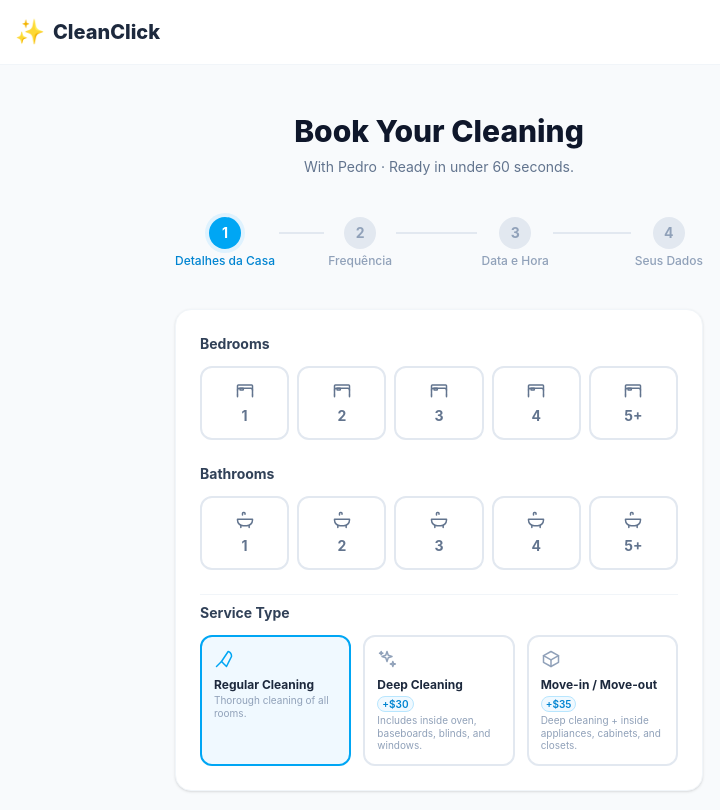
Scenario: Step 1 — Frequency (Stitch similarity) › botão Back retorna ao Step 0 (House Details)
Click the button "2" below "Bedrooms": coordinates (342, 403) 297,366 -> 386,440
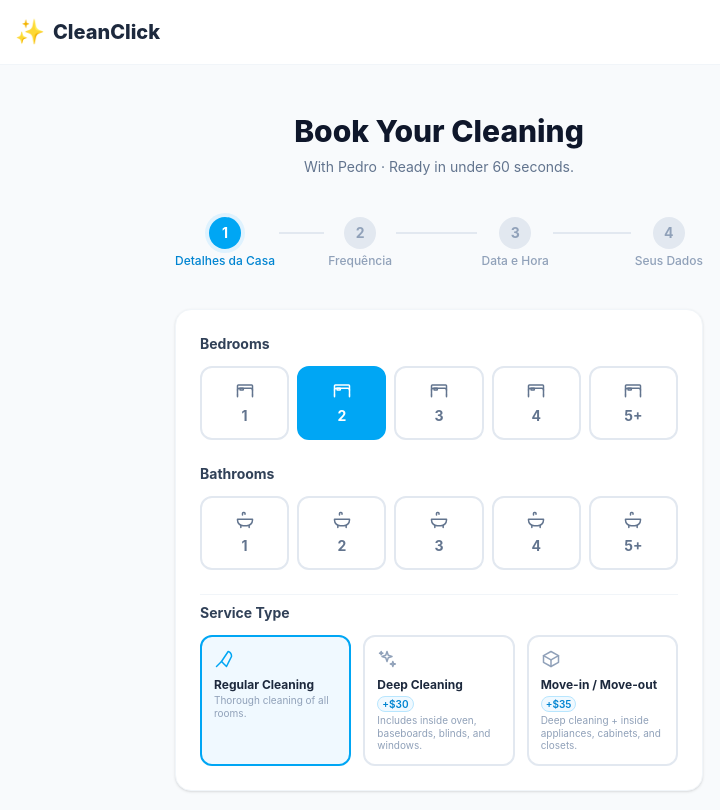
Click the button "2" below "Bathrooms": coordinates (342, 533) 297,496 -> 386,570
(page scrolled)
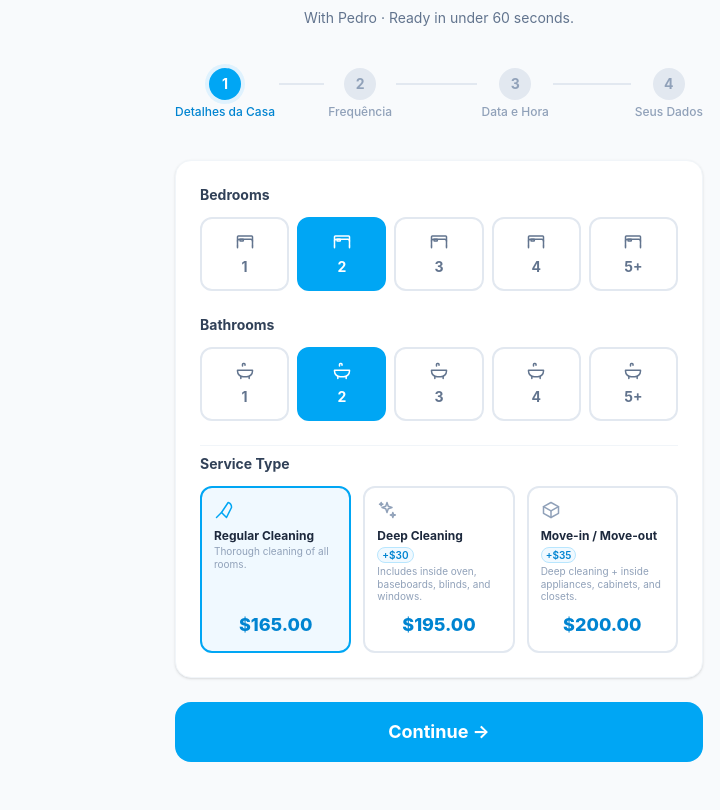
Click the button "Continue →": coordinates (439, 732) 175,702 -> 703,762
(page scrolled)
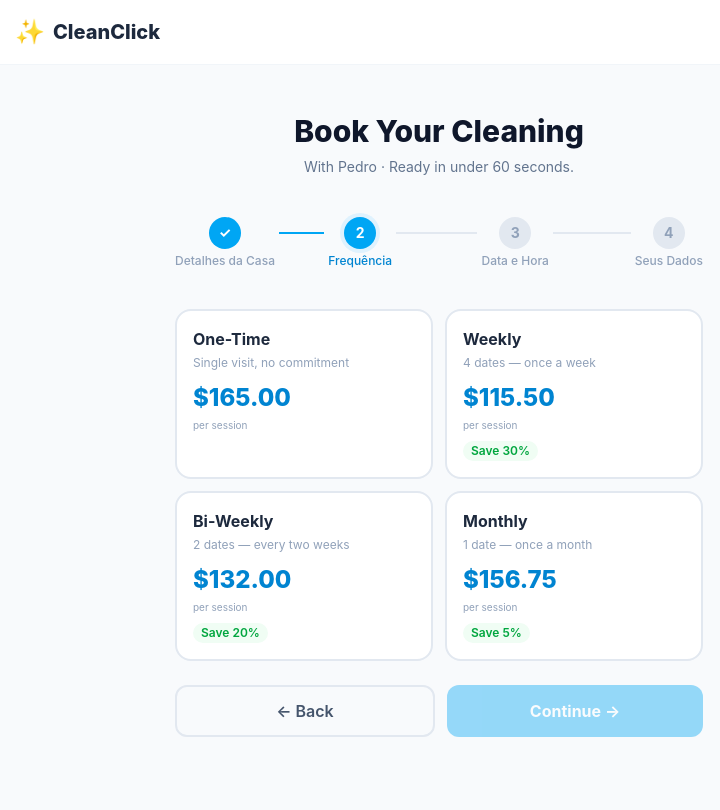
Click the button "← Back": coordinates (305, 711) 175,685 -> 435,737
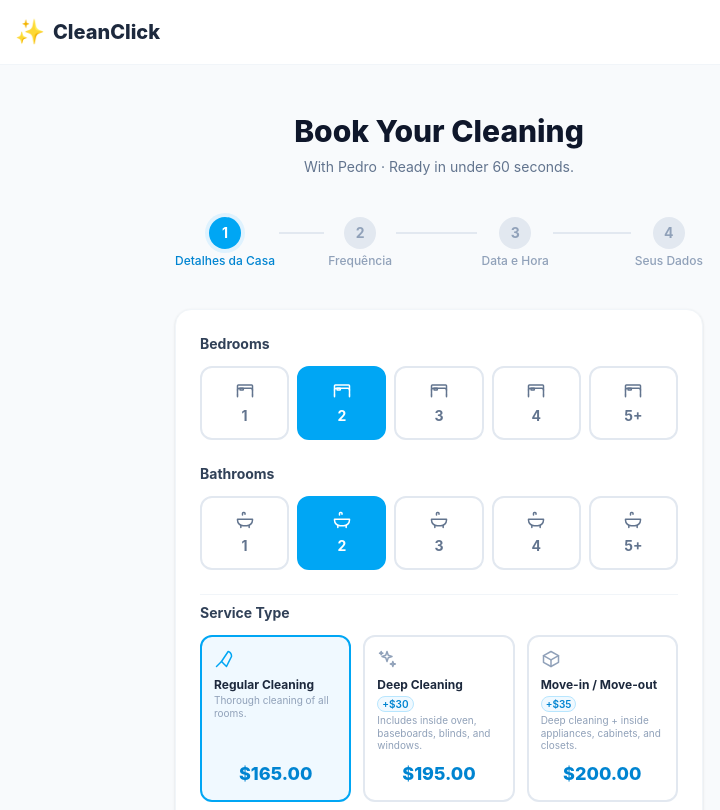
Expected: the text "Bedrooms" is shown, 200,335 -> 270,352
